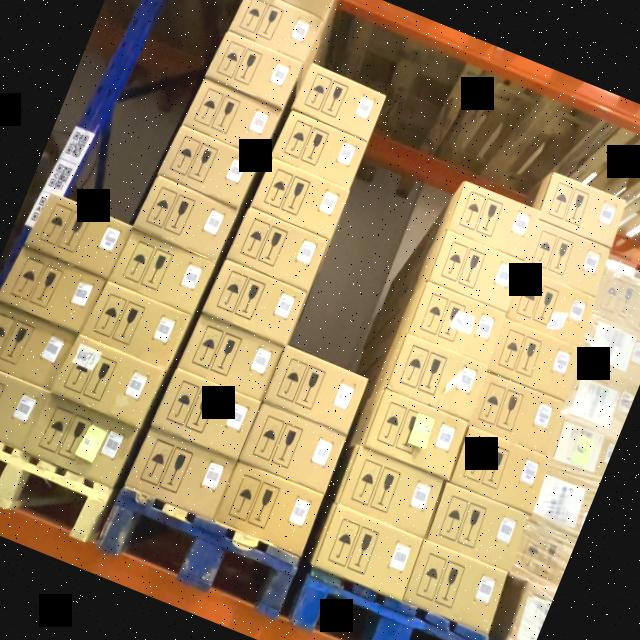box: (309, 501, 422, 599), (400, 537, 508, 635), (214, 461, 325, 556), (22, 395, 139, 485), (52, 334, 165, 427), (333, 444, 443, 538), (124, 427, 236, 519), (238, 401, 347, 495), (359, 388, 468, 481), (150, 368, 261, 459), (263, 345, 369, 435), (83, 280, 192, 367), (423, 482, 526, 573), (109, 228, 216, 315), (176, 316, 283, 402), (0, 248, 105, 335), (24, 194, 131, 279), (383, 333, 487, 420), (201, 258, 306, 344), (448, 425, 550, 513), (226, 206, 329, 290), (134, 176, 237, 260), (405, 281, 506, 366), (425, 229, 523, 313), (469, 372, 566, 456), (183, 77, 283, 156), (160, 129, 260, 208), (250, 159, 349, 238), (291, 62, 387, 142), (271, 111, 369, 189), (203, 32, 303, 108), (506, 265, 599, 346), (488, 318, 582, 398), (445, 181, 539, 260), (522, 219, 611, 297), (537, 171, 628, 247), (0, 308, 75, 391), (226, 0, 322, 61), (0, 374, 49, 450), (591, 263, 640, 332)
